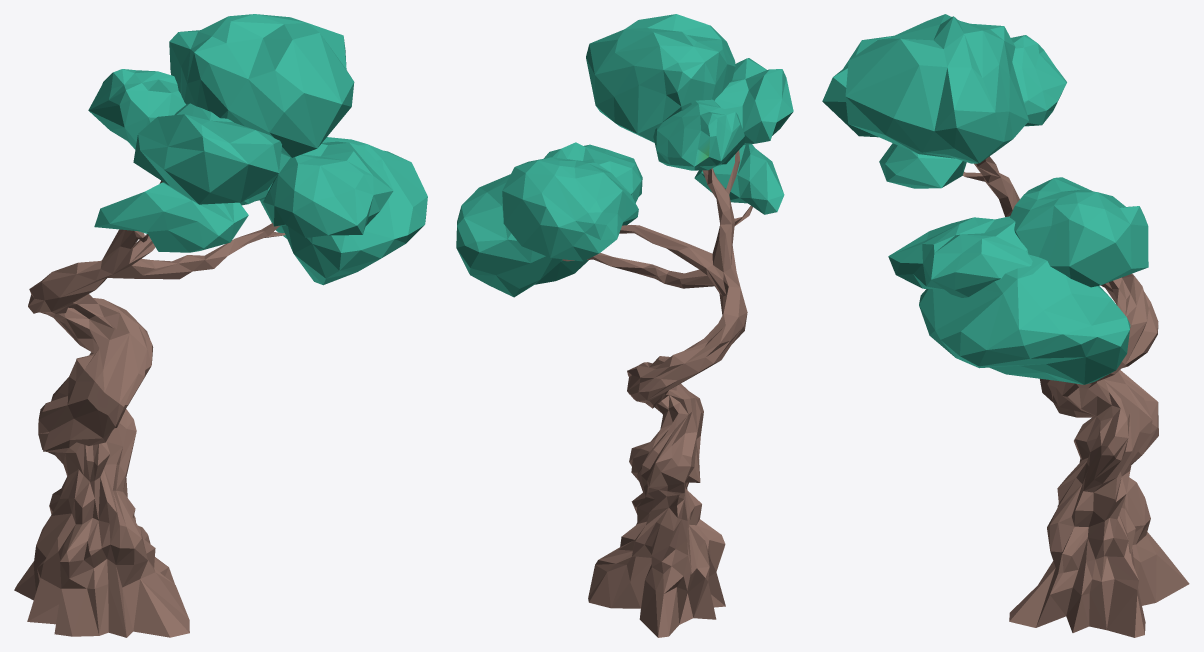
The model's file is fantasy_plant_048.fbx.
The picture shows the model from 3 angles, left to right: view 1: azimuth 30°, elevation 25°; view 2: azimuth 150°, elevation 25°; view 3: azimuth 270°, elevation 25°; orthographic projection. The views are drawn at different scales.
Visible parts, largest first — view 1: fantasy_plant.048; view 2: fantasy_plant.048; view 3: fantasy_plant.048.
Boxes of the visible parts, <box> form: fantasy_plant.048: <box>14,14,427,637</box>; fantasy_plant.048: <box>456,14,793,637</box>; fantasy_plant.048: <box>822,14,1189,637</box>.
Bounding box in the file's own units: 1156 × 1986 × 1081.
Materials: 1 (1 with a texture image).
